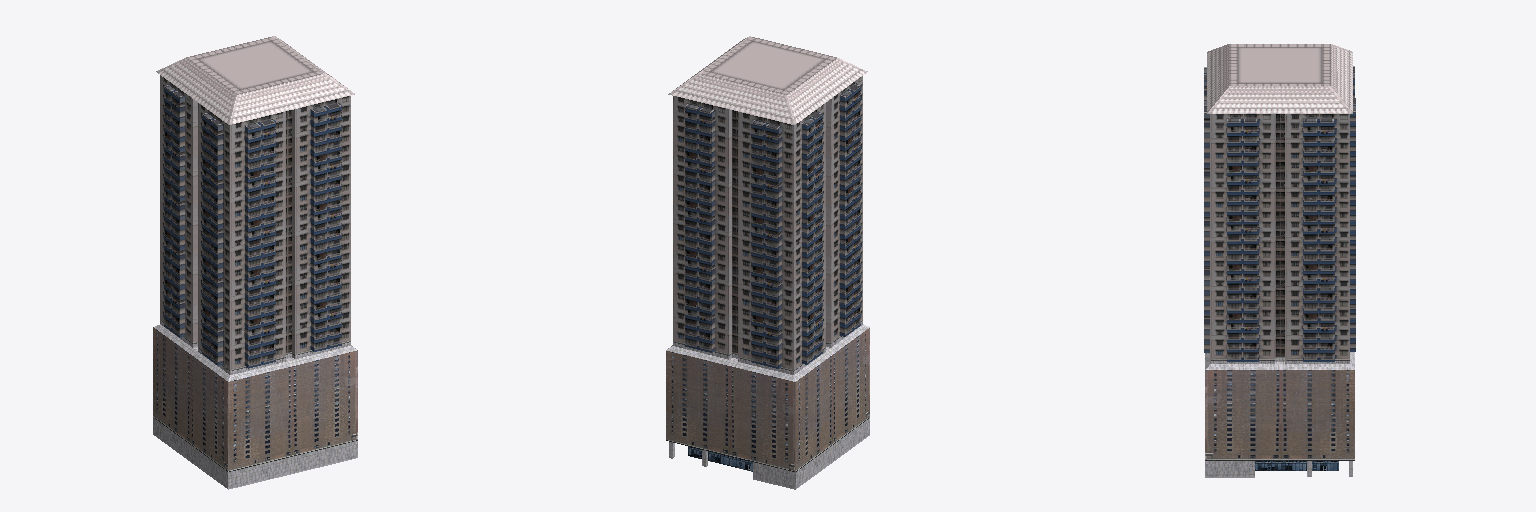
3 views of the same model, side by side, from view 1: azimuth 30°, elevation 25°; view 2: azimuth 150°, elevation 25°; view 3: azimuth 270°, elevation 25° (orthographic).
Parts seen in each view (by area): view 1: skyscraper; view 2: skyscraper; view 3: skyscraper.
Part boxes in pixels (bbox=[...]): skyscraper: bbox=[153, 36, 357, 489]; skyscraper: bbox=[666, 36, 869, 489]; skyscraper: bbox=[1204, 44, 1355, 477].
Bounding box in the file's own units: 0.4106 × 1.14 × 0.4132.
1 materials, 1 textured.